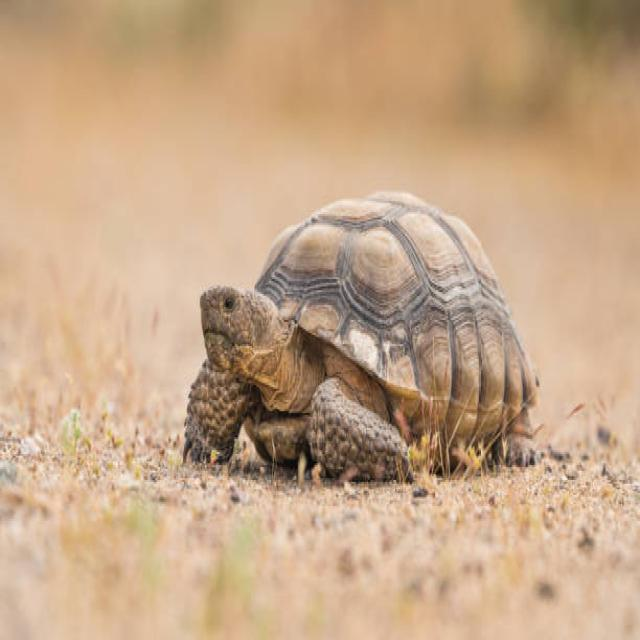tortoise: (191, 175, 561, 504), (182, 266, 306, 400), (310, 391, 430, 514), (163, 344, 257, 470)
